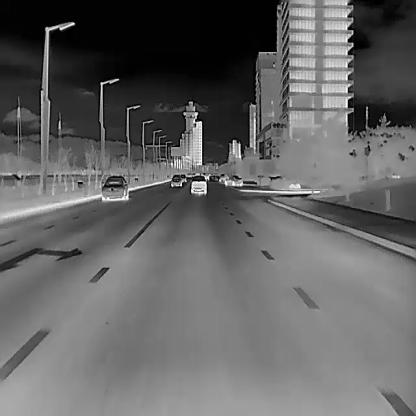car: (101, 174, 128, 201), (189, 175, 206, 193), (227, 173, 243, 186), (170, 173, 182, 186), (180, 173, 186, 182)
